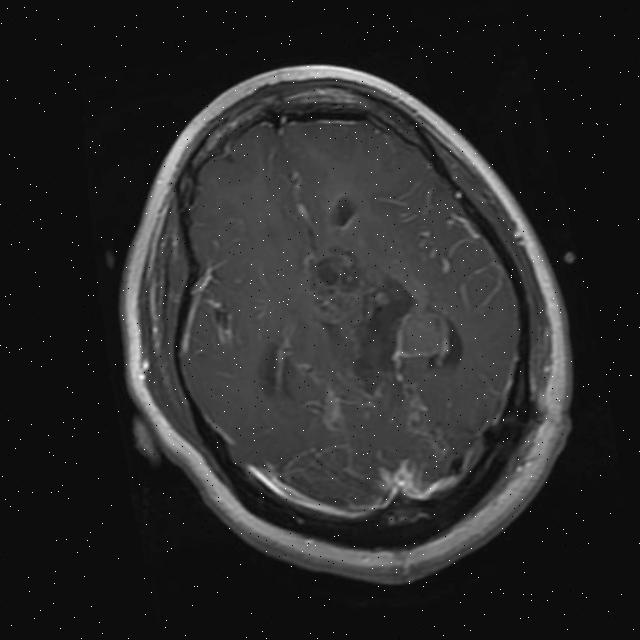Glioma: (300, 239, 392, 332), (382, 297, 455, 373)
